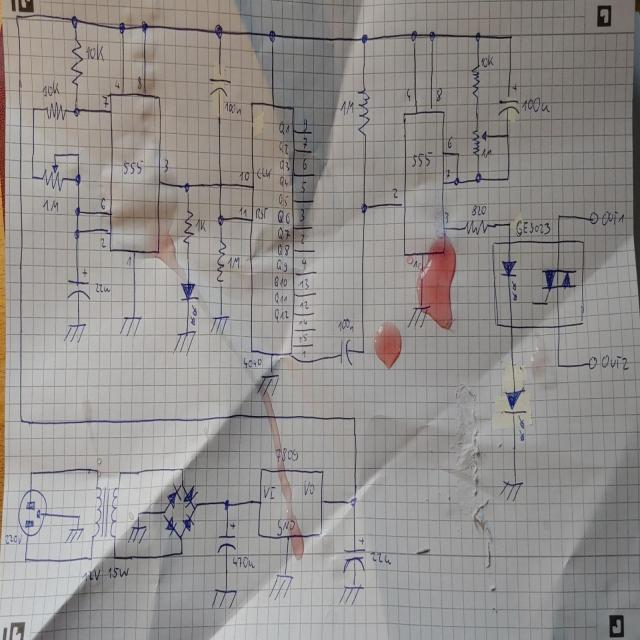capacitor: (66, 266, 92, 303), (342, 535, 366, 574), (496, 82, 520, 116), (216, 520, 236, 553), (208, 72, 232, 98), (339, 336, 354, 368)
crossover: (217, 180, 223, 188)
diode: (499, 386, 528, 442), (178, 280, 200, 326), (166, 484, 182, 509), (183, 484, 198, 508), (164, 516, 177, 536), (182, 513, 194, 531)
ground: (268, 573, 294, 600), (337, 580, 364, 606), (256, 369, 280, 397), (406, 302, 431, 328), (210, 587, 238, 610), (173, 330, 196, 356), (499, 479, 524, 502), (63, 321, 87, 344), (118, 314, 142, 337), (209, 314, 230, 336), (127, 524, 147, 545), (64, 526, 84, 544)
junction: (213, 22, 224, 42), (70, 14, 80, 31), (348, 493, 358, 508), (140, 19, 150, 34), (360, 202, 370, 215), (183, 180, 192, 194), (217, 214, 226, 228), (72, 104, 80, 118), (428, 29, 436, 43), (410, 29, 418, 43), (361, 32, 369, 46), (268, 29, 276, 43), (118, 20, 126, 34), (73, 226, 81, 239), (474, 171, 482, 184), (474, 30, 482, 43), (223, 498, 231, 510), (74, 172, 81, 185), (74, 205, 80, 218), (454, 176, 461, 187), (190, 503, 198, 511), (506, 219, 512, 228), (504, 173, 510, 182), (28, 468, 34, 477), (23, 554, 28, 564), (95, 466, 100, 476), (360, 347, 366, 355), (178, 548, 184, 556), (112, 552, 117, 561), (88, 553, 93, 562), (14, 11, 19, 20), (178, 533, 183, 542), (504, 131, 510, 138), (454, 150, 460, 157), (31, 105, 36, 113), (556, 212, 561, 220), (117, 468, 122, 476), (75, 150, 80, 158), (76, 512, 81, 520), (18, 416, 23, 424), (162, 508, 166, 518), (179, 465, 184, 472), (136, 509, 140, 517), (30, 172, 34, 180), (508, 32, 512, 40), (556, 361, 560, 369), (180, 480, 184, 488), (52, 151, 56, 158), (352, 415, 356, 421)
resistor: (356, 88, 369, 138), (70, 36, 82, 89), (42, 164, 64, 192), (470, 124, 488, 158), (45, 100, 67, 120), (216, 238, 226, 282), (182, 209, 194, 244), (464, 218, 488, 234), (471, 62, 480, 98)
terminal: (588, 354, 598, 371), (589, 210, 598, 226)
text: (515, 218, 550, 236), (600, 352, 628, 371), (520, 96, 550, 113), (410, 150, 432, 168), (274, 446, 298, 462), (231, 554, 255, 570), (601, 210, 625, 226), (121, 157, 142, 175), (86, 43, 105, 62), (276, 517, 296, 535), (368, 550, 391, 565), (41, 80, 60, 97), (81, 567, 101, 583), (339, 99, 355, 118), (108, 564, 129, 578), (3, 531, 22, 545), (42, 197, 58, 213), (241, 356, 261, 368), (224, 101, 241, 115), (262, 483, 276, 500), (255, 164, 272, 178), (336, 318, 354, 331), (480, 53, 495, 68), (274, 307, 289, 322), (471, 203, 486, 217), (277, 208, 290, 224), (254, 205, 268, 219), (276, 242, 290, 256), (227, 255, 240, 270), (94, 282, 110, 294), (195, 217, 207, 233), (274, 291, 288, 304), (277, 226, 290, 240), (302, 480, 314, 495), (278, 120, 290, 135), (273, 274, 288, 286), (278, 191, 289, 207), (480, 146, 492, 160), (276, 258, 288, 272), (278, 174, 289, 188), (279, 157, 290, 170), (298, 277, 309, 290), (279, 140, 289, 154), (162, 157, 170, 174), (300, 255, 308, 271), (101, 93, 109, 108), (298, 207, 306, 222), (435, 86, 442, 102), (405, 87, 412, 103), (391, 186, 399, 200), (240, 170, 250, 181), (238, 205, 248, 216), (299, 300, 309, 310), (298, 332, 308, 342), (136, 74, 143, 88), (299, 180, 306, 193), (302, 156, 308, 171), (302, 116, 308, 131), (444, 210, 450, 225), (447, 134, 453, 149), (297, 318, 308, 326), (125, 254, 132, 266), (100, 196, 106, 210), (114, 78, 121, 90), (302, 135, 308, 149), (445, 167, 451, 180), (100, 236, 106, 248), (412, 258, 418, 269), (300, 232, 305, 245), (301, 349, 307, 359)
transformer: (90, 482, 120, 538)
